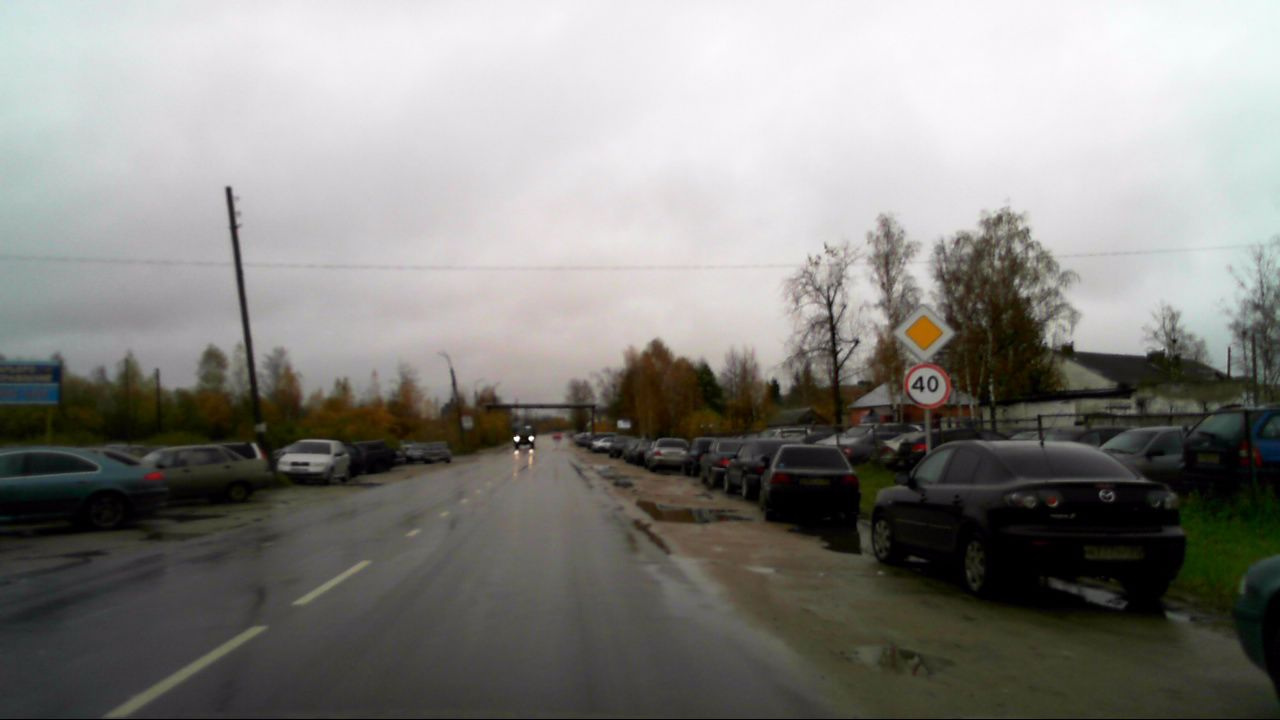speed_warning_40: (903, 361, 953, 410)
